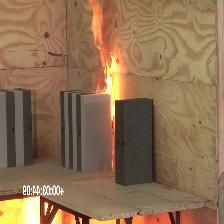fire: (85, 0, 128, 110)
